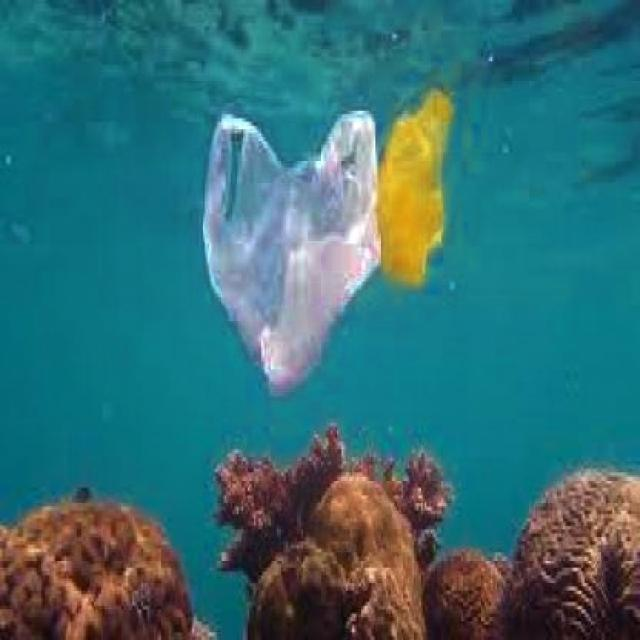pbag: (203, 111, 380, 400), (373, 88, 455, 294)
